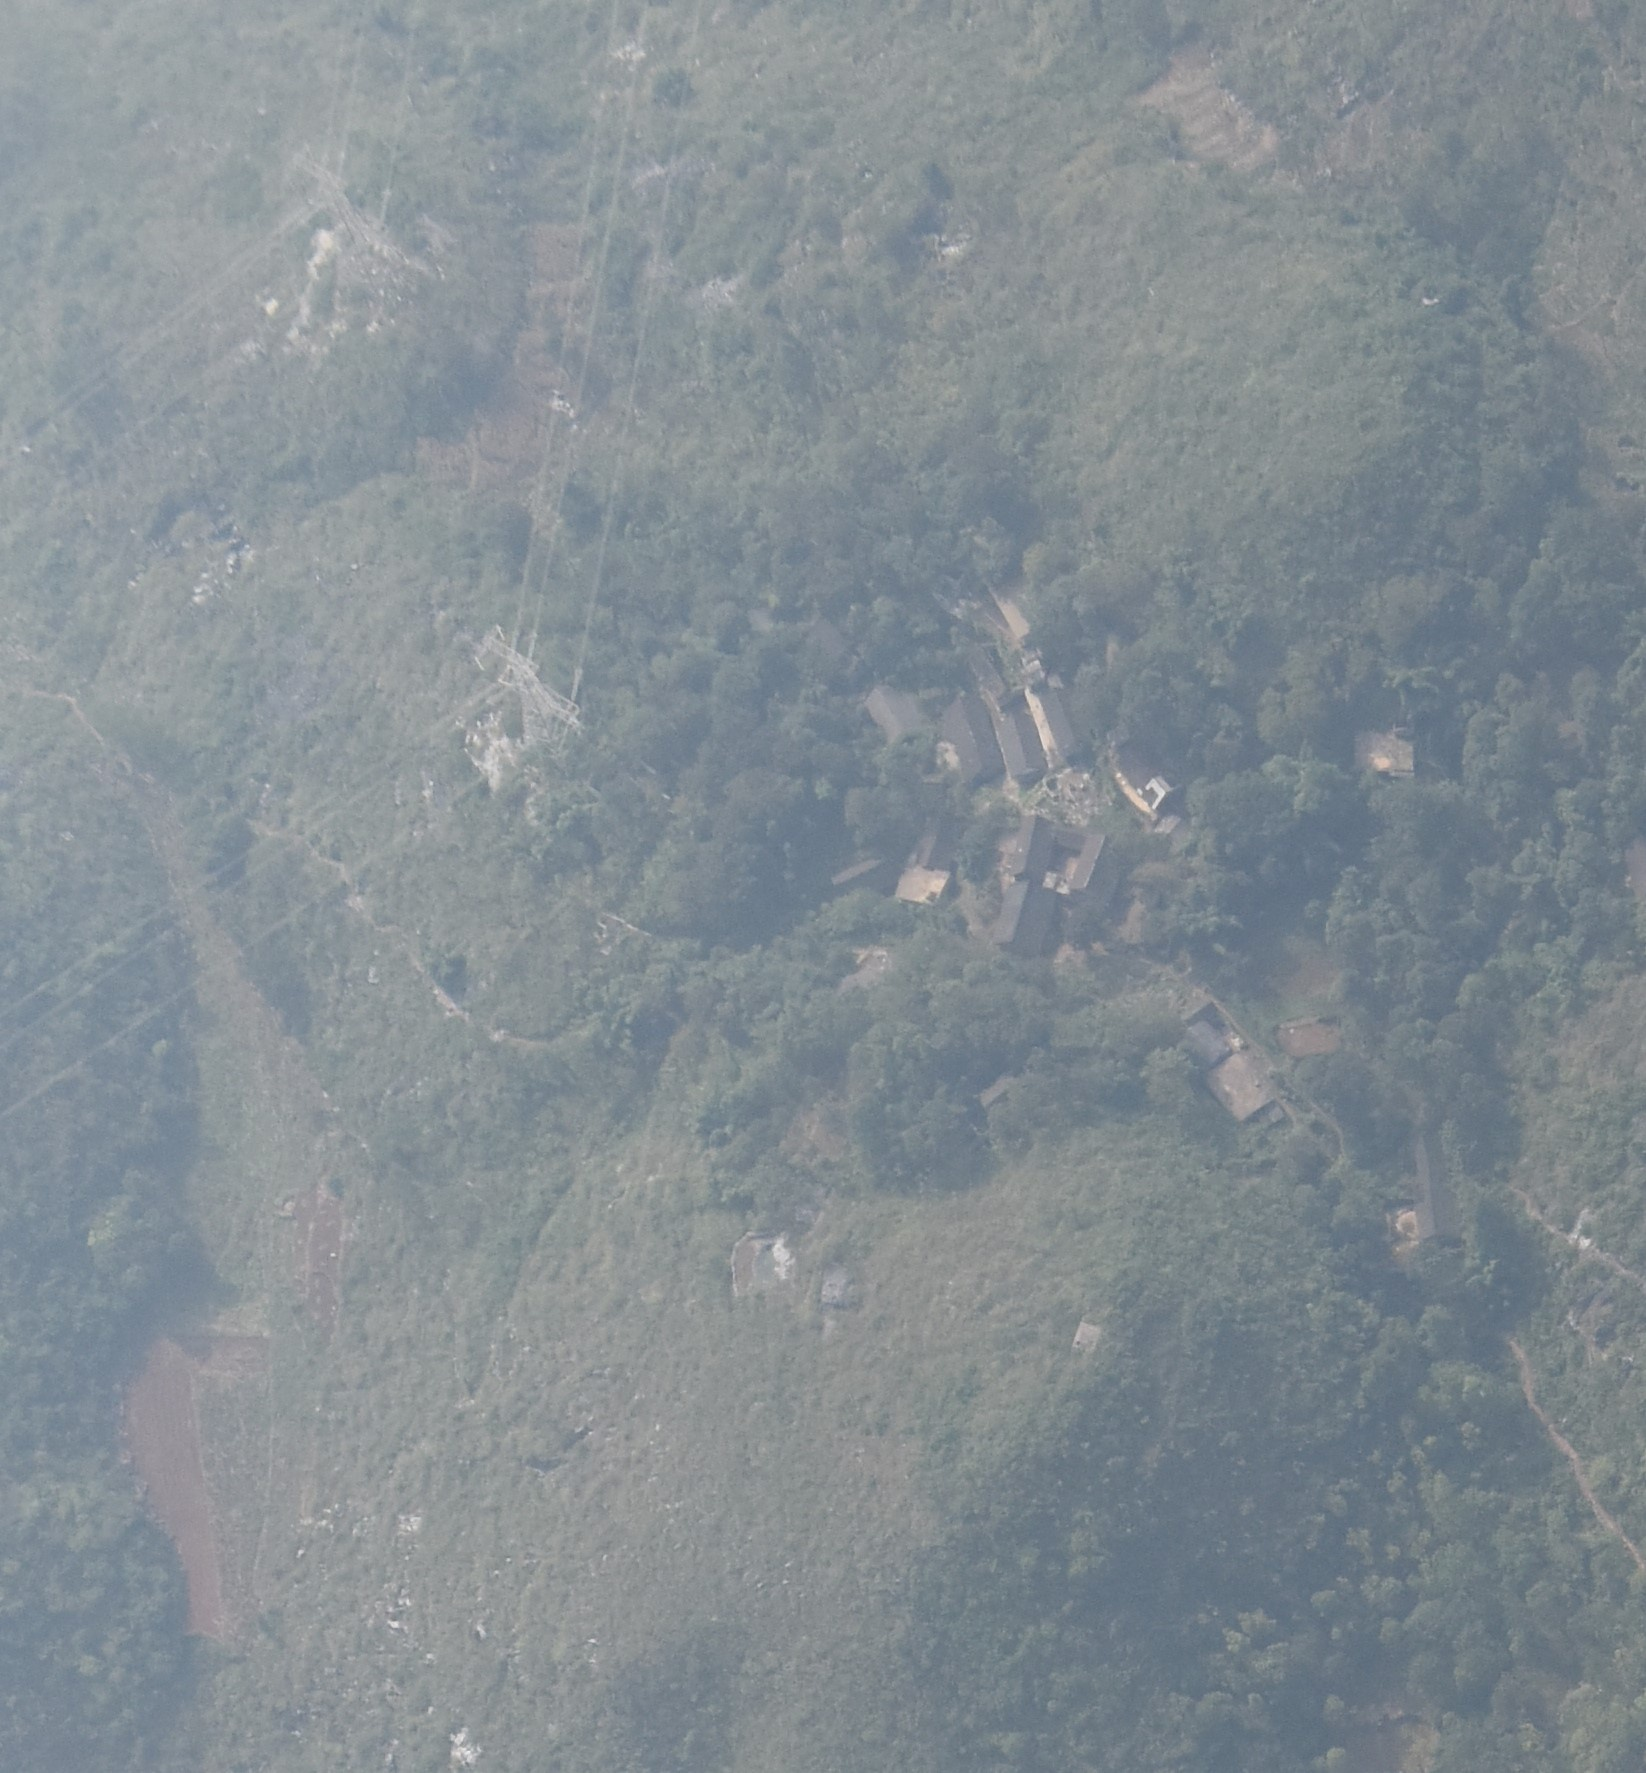building: (1010, 816, 1112, 897), (941, 698, 1004, 786), (1206, 1054, 1275, 1121), (1412, 1133, 1455, 1238), (1114, 747, 1176, 819), (994, 881, 1051, 956), (863, 685, 930, 742), (1025, 691, 1075, 764), (997, 715, 1046, 778), (1353, 730, 1416, 779), (1180, 1023, 1231, 1072), (830, 856, 894, 893), (897, 867, 951, 905)
cable-tower: (286, 146, 422, 303), (468, 627, 586, 789)
